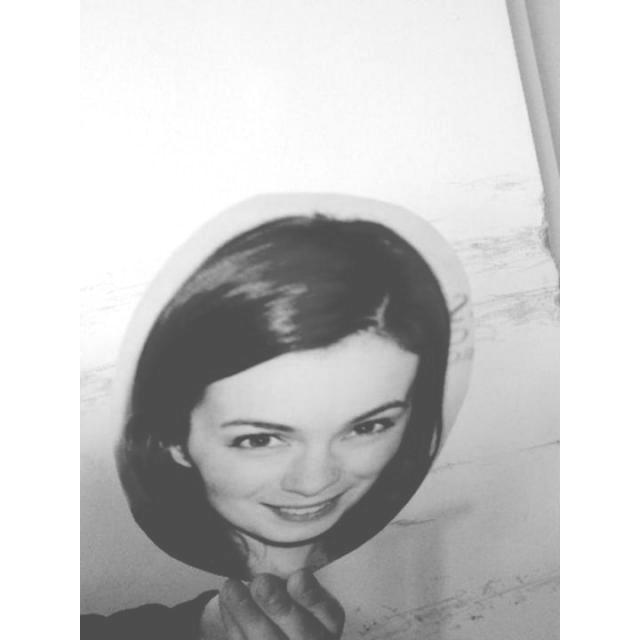fake: (102, 181, 481, 593)
